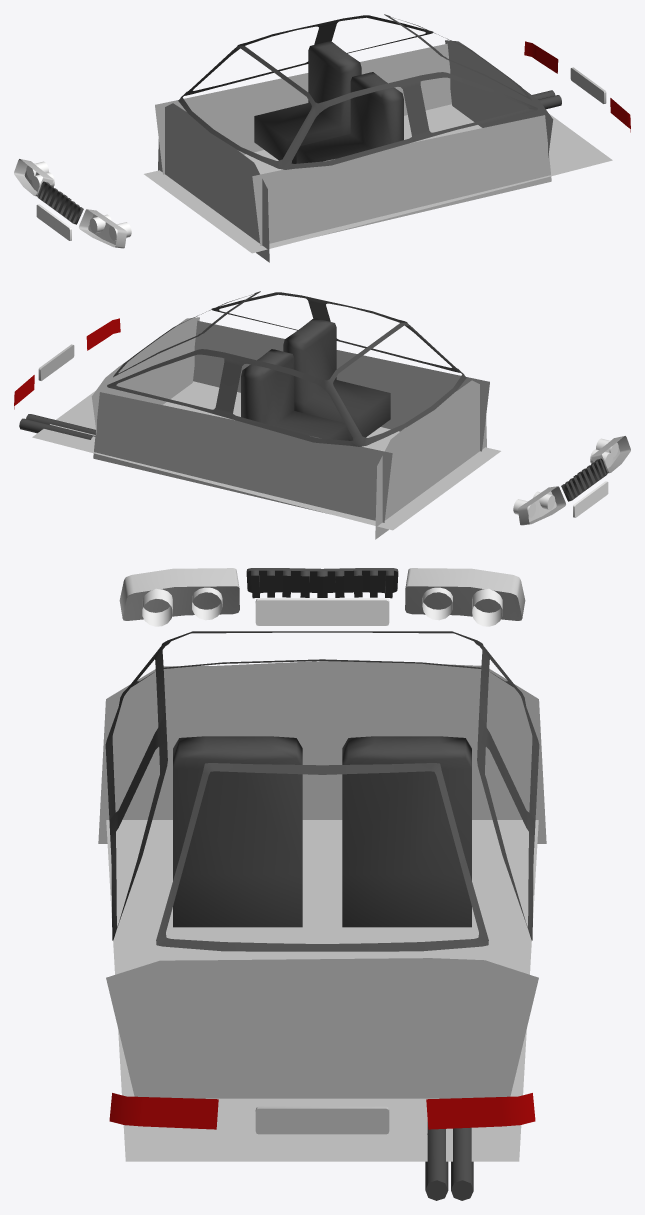
File: sedan0_misc.obj
3 views of the same model, one above another, from view 1: azimuth 30°, elevation 25°; view 2: azimuth 150°, elevation 25°; view 3: azimuth 270°, elevation 25° (orthographic). The views are drawn at different scales.
Visible parts, largest first — view 1: Plane, Seat, Plastic, FrontPanel, Floor, RearPanel, FrontLightInterior, RegistrationPlateFront, RearLights, FrontLightBulb1, FrontLightBulb0; view 2: Plane, Seat, Plastic, FrontPanel, Floor, RearPanel, FrontLightInterior, RegistrationPlateFront, RearLights, ExhaustRight, ExhaustLeft, FrontLightBulb1 (+1 smaller); view 3: RearPanel, Seat, Floor, FrontPanel, Plastic, FrontLightInterior, RegistrationPlateFront, RearLights, FrontLightBulb1, ExhaustLeft, ExhaustRight, FrontLightBulb0.
Boxes of the visible parts, x1,y1,x2,y2 form: Plane: [155, 43, 551, 245]; Seat: [254, 41, 403, 163]; Plastic: [37, 14, 537, 224]; FrontPanel: [158, 103, 269, 262]; Floor: [144, 104, 612, 253]; RearPanel: [445, 40, 553, 157]; FrontLightInterior: [14, 159, 126, 248]; RegistrationPlateFront: [36, 67, 606, 240]; RearLights: [524, 41, 630, 132]; FrontLightBulb1: [26, 161, 131, 240]; FrontLightBulb0: [32, 172, 111, 233]; Plane: [93, 320, 489, 522]; Seat: [241, 318, 390, 440]; Plastic: [107, 291, 607, 501]; FrontPanel: [375, 380, 486, 539]; Floor: [32, 381, 500, 530]; RearPanel: [91, 317, 199, 434]; FrontLightInterior: [518, 436, 630, 525]; RegistrationPlateFront: [38, 344, 608, 517]; RearLights: [14, 318, 120, 409]; ExhaustRight: [19, 418, 95, 439]; ExhaustLeft: [26, 414, 95, 434]; FrontLightBulb1: [513, 438, 618, 517]; RearPanel: [106, 958, 538, 1098]; Seat: [173, 736, 471, 927]; Floor: [106, 820, 538, 1161]; FrontPanel: [98, 661, 546, 843]; Plastic: [105, 568, 539, 951]; FrontLightInterior: [119, 568, 525, 620]; RegistrationPlateFront: [255, 598, 389, 1134]; RearLights: [109, 1093, 535, 1129]; FrontLightBulb1: [142, 588, 502, 626]; ExhaustLeft: [425, 1122, 448, 1200]; ExhaustRight: [451, 1127, 473, 1200]; FrontLightBulb0: [192, 587, 452, 620].
Size of the model in its own units: 4.82 by 1.18 by 1.75.
